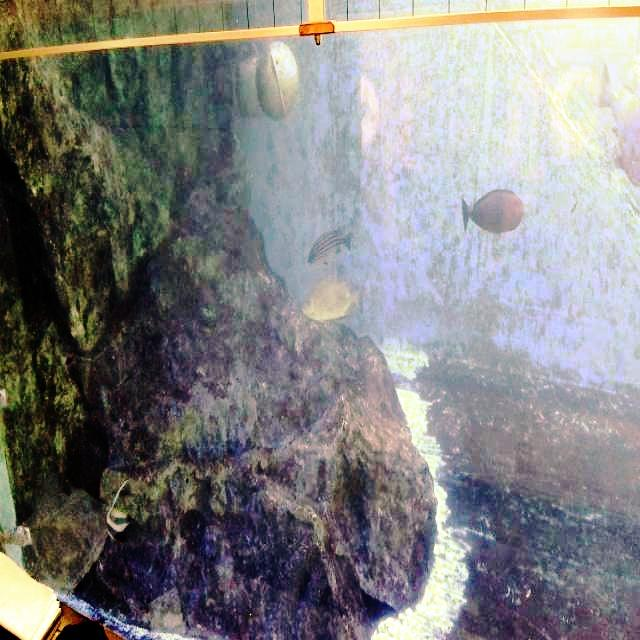Plectorhinchus lessonii: (297, 216, 358, 276)
angelfish: (100, 472, 141, 551)
gold snapper: (293, 266, 370, 334)
other black fish: (448, 175, 534, 246)
